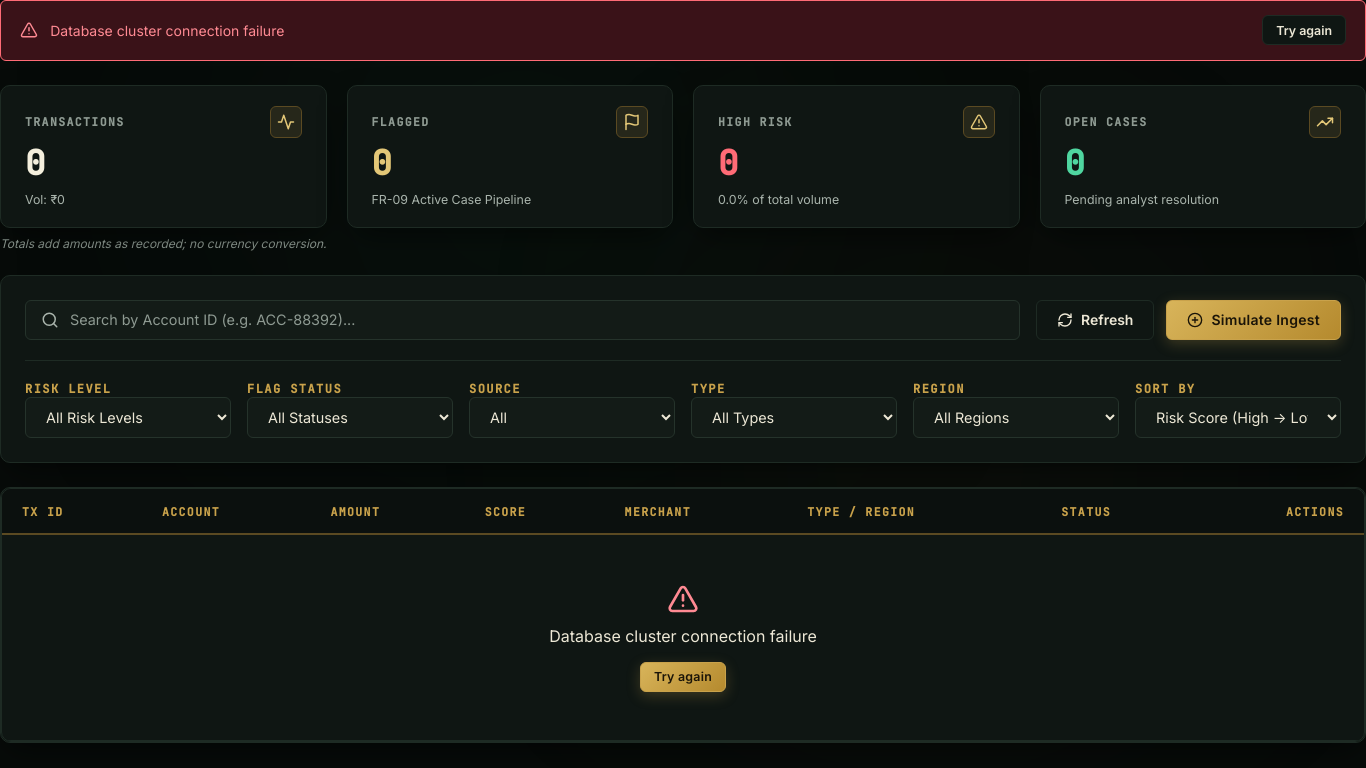
Test: DashboardPage › shows error message and Try again button when fetch fails and NO fake transactions appear
Expected: the text "ACC-44910" is not shown
Expected: the text "CryptoX Exchange" is not shown
Step 1. Click the 1st button "Try again" → (1304, 30), box [1262,15,1346,45]
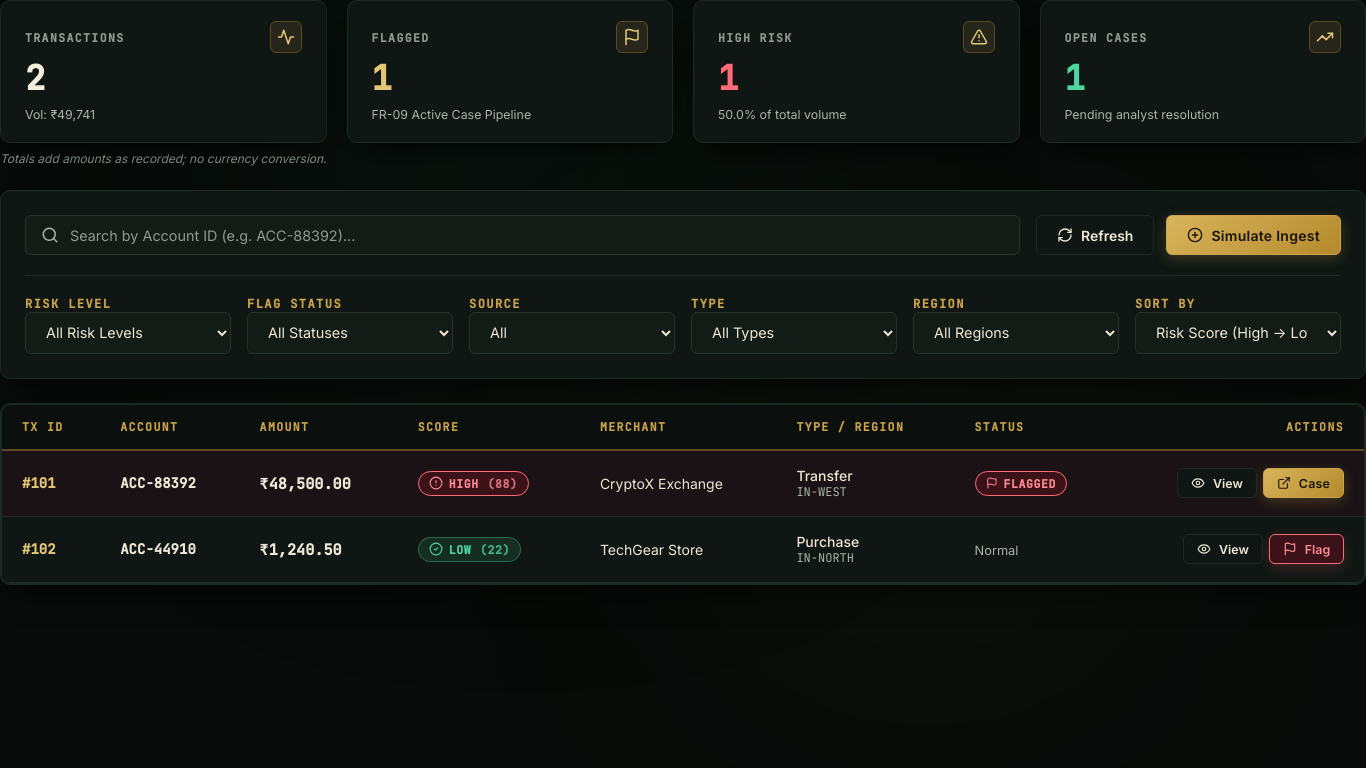
Expected: the text "ACC-88392" is shown, [120,474,196,492]
